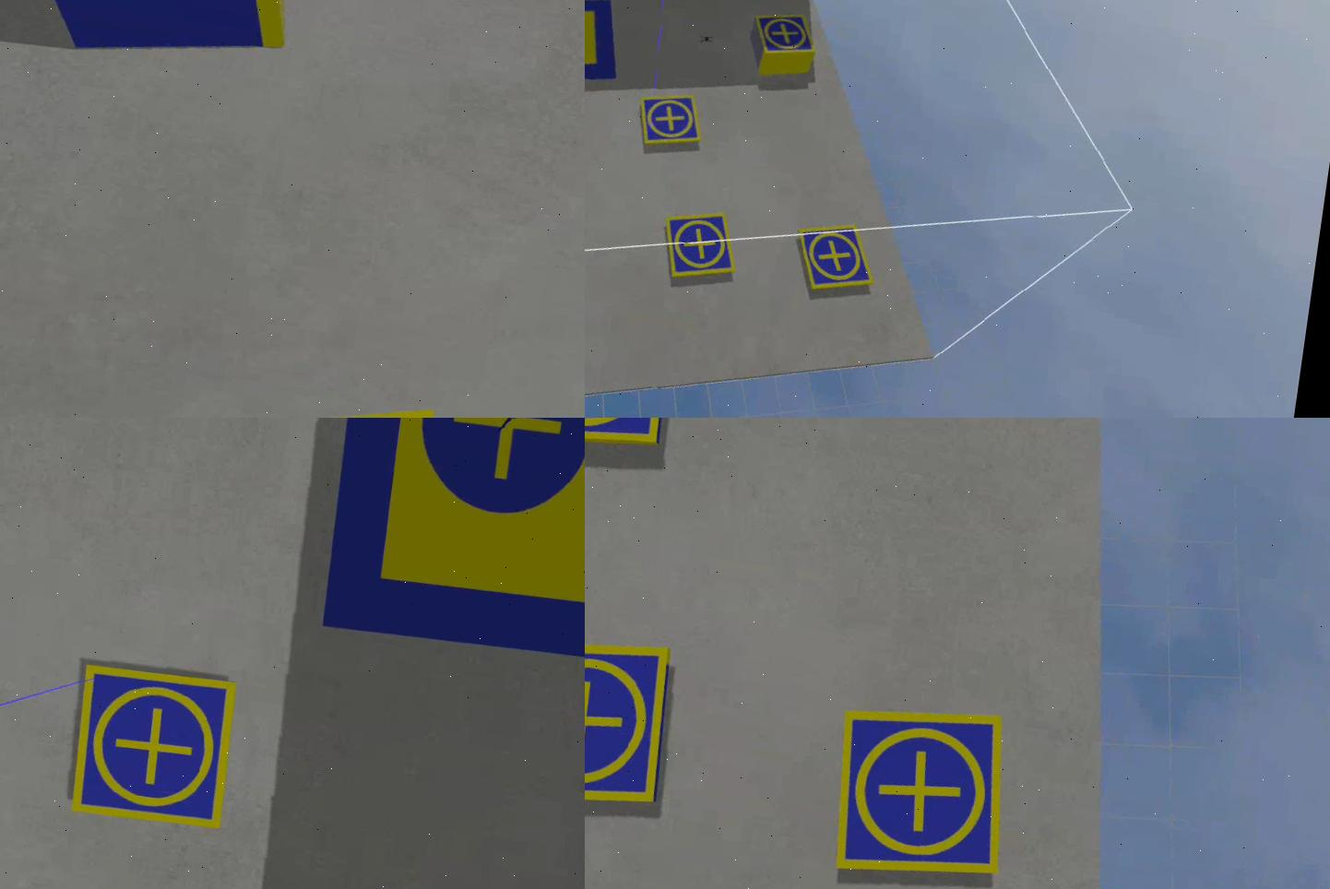large_base: (315, 419, 586, 670), (586, 1, 628, 107)
small_base: (822, 694, 1022, 889), (58, 661, 243, 835), (586, 626, 681, 824), (792, 219, 883, 302), (659, 207, 745, 289), (635, 89, 708, 154), (750, 10, 822, 64)
